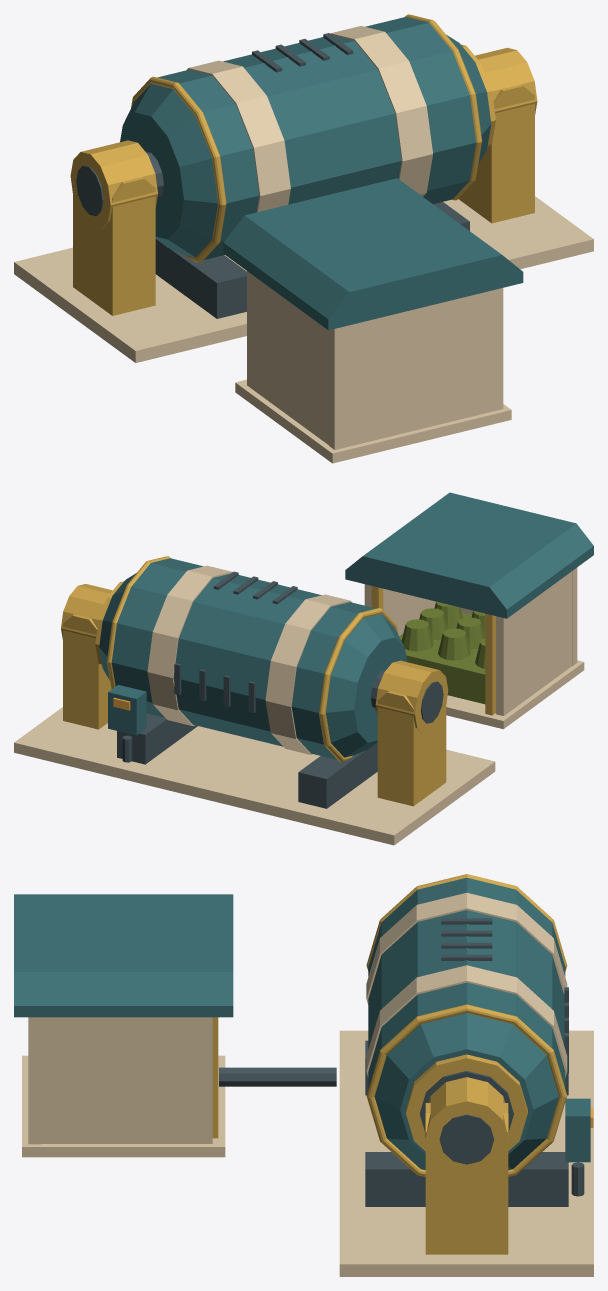
The picture shows the model from 3 angles, top to bottom: view 1: azimuth 30°, elevation 25°; view 2: azimuth 150°, elevation 25°; view 3: azimuth 270°, elevation 25°; orthographic projection. The views are drawn at different scales.
Visible parts, largest first — view 1: Generator module; view 2: Generator module; view 3: Generator module.
Part boxes in pixels (x1=…): Generator module: x1=14, y1=14, x2=593, y2=463; Generator module: x1=14, y1=492, x2=593, y2=845; Generator module: x1=14, y1=874, x2=593, y2=1276.
Bounding box in the file's own units: 8.7 × 3.84 × 9.12.
Materials: 1 (1 with a texture image).
